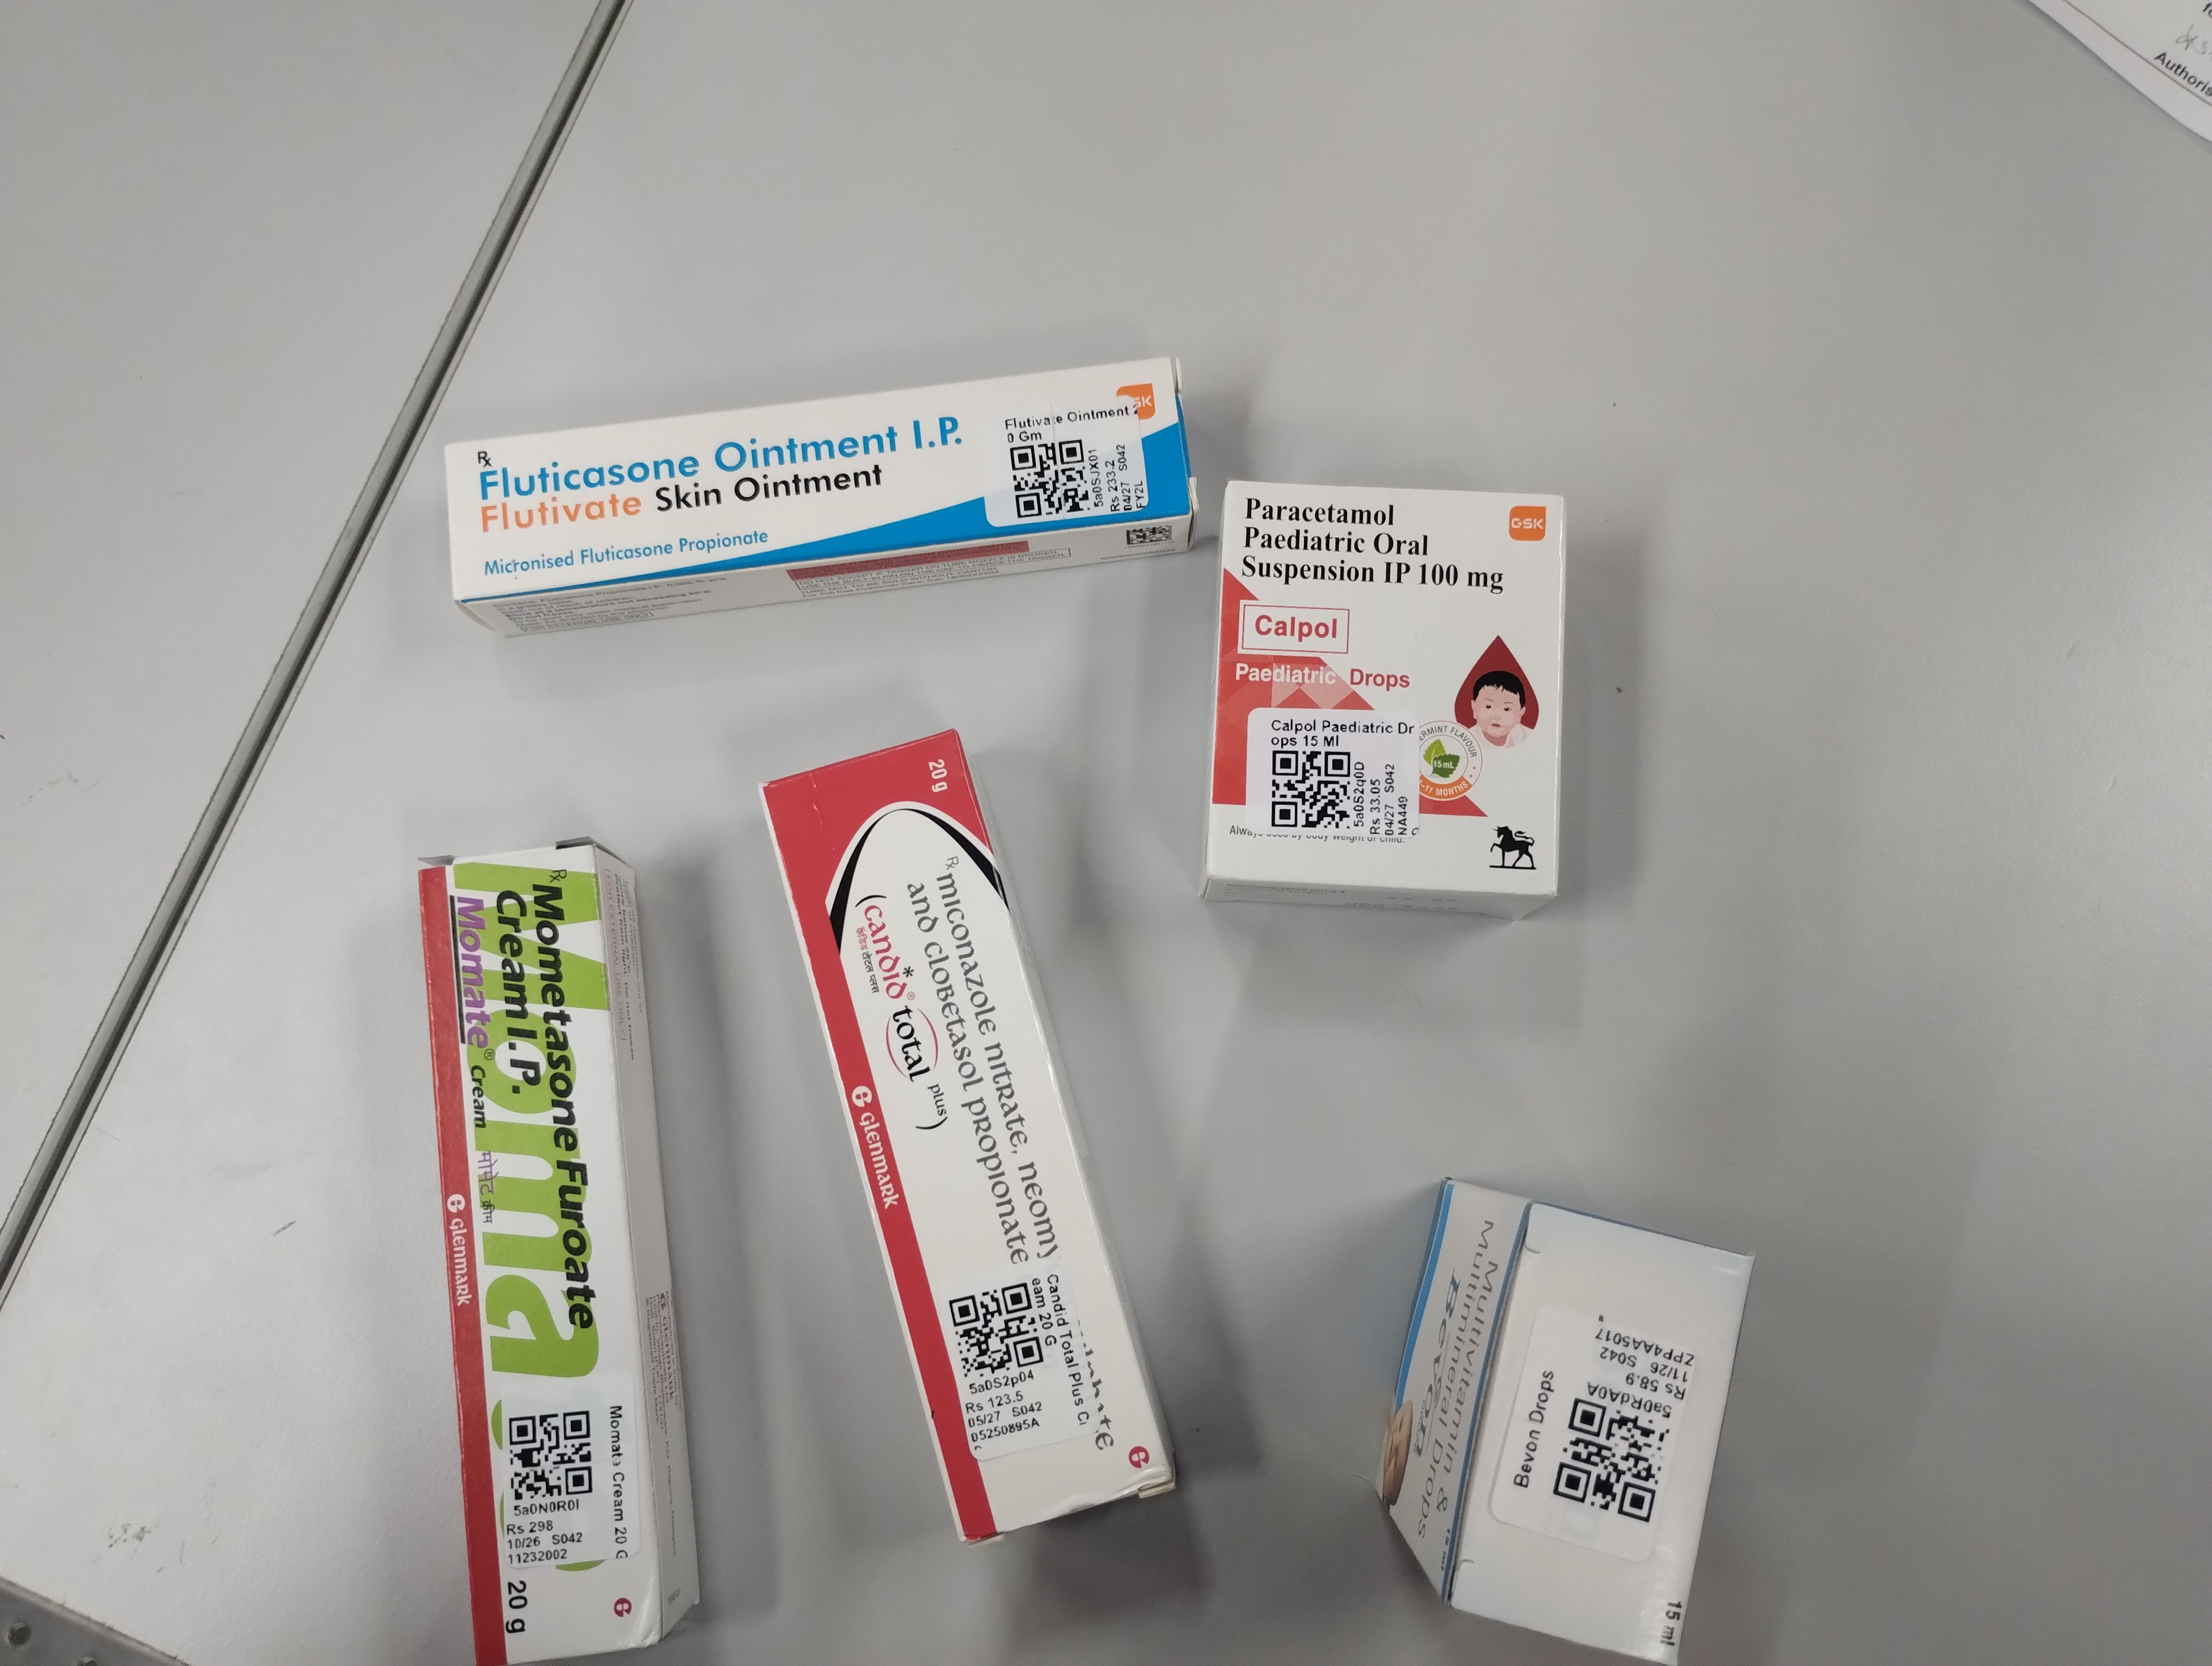QR: (1553, 1333, 1670, 1459), (509, 1365, 593, 1454)
